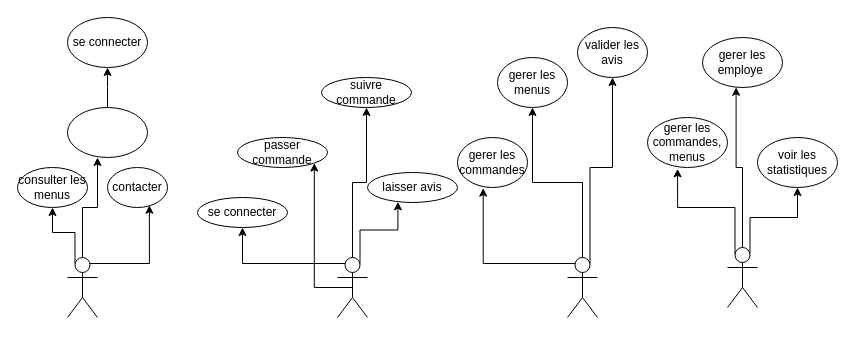
The diagram is 855 pixels wide and 356 high, and some of its shapes have lost their labels. Here are the shapes that lost their labels. From the top down, the centre of each, then its label:
At [107,132]: "s'inscrire".
At [82,287]: "visiteur".
At [352,287]: "utilisateur".
At [582,287]: "employe".
At [742,277]: "administrateur".
